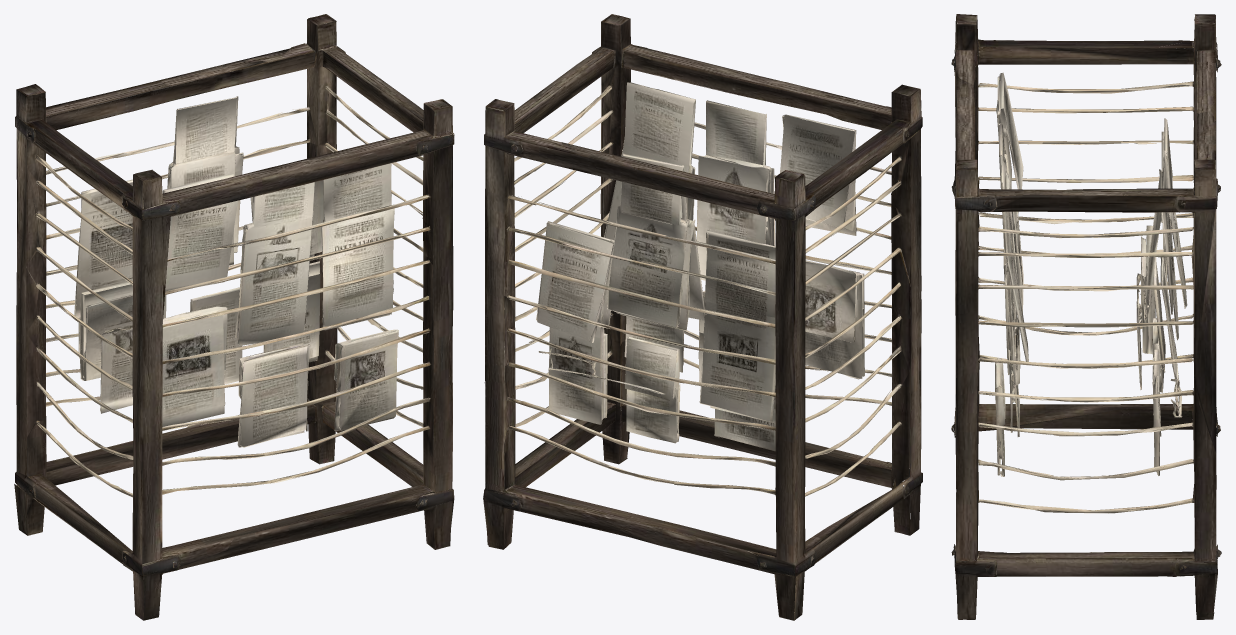
Rendered from printer-drying-rack.glb.
3 views of the same model, side by side, from view 1: azimuth 30°, elevation 25°; view 2: azimuth 150°, elevation 25°; view 3: azimuth 270°, elevation 25° (orthographic). The views are drawn at different scales.
Visible parts, largest first — view 1: Mesh_0; view 2: Mesh_0; view 3: Mesh_0.
Boxes of the visible parts, bbox=[...] form: Mesh_0: bbox=[14, 14, 454, 620]; Mesh_0: bbox=[483, 14, 922, 620]; Mesh_0: bbox=[951, 14, 1221, 619].
Bounding box in the file's own units: 1.43 × 1.9 × 1.03.
Materials: 1 (1 with a texture image).
